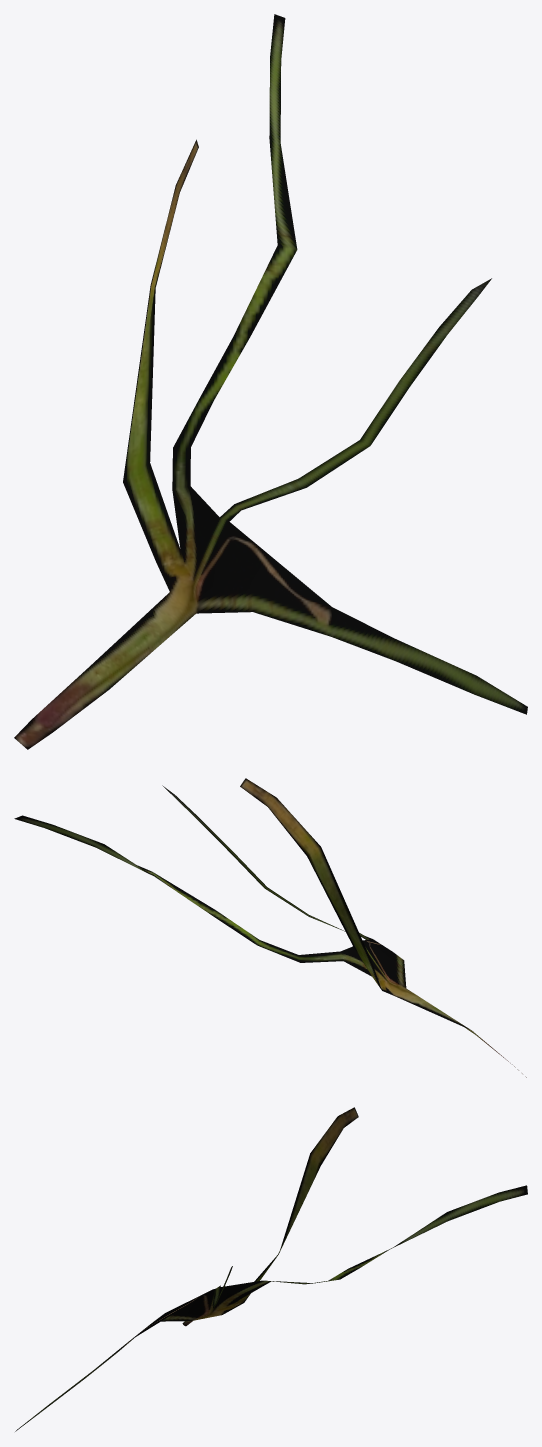
The model's file is SM_Grass_17.gltf.
3 views of the same model, one above another, from view 1: azimuth 30°, elevation 25°; view 2: azimuth 150°, elevation 25°; view 3: azimuth 270°, elevation 25° (orthographic). The views are drawn at different scales.
Parts seen in each view (by area): view 1: SM_Grass_17; view 2: SM_Grass_17; view 3: SM_Grass_17.
Boxes of the visible parts, bbox=[...] form: SM_Grass_17: bbox=[14, 14, 527, 749]; SM_Grass_17: bbox=[14, 778, 526, 1077]; SM_Grass_17: bbox=[15, 1107, 527, 1431].
Size of the model in its own units: 0.0552 by 0.0471 by 0.0689.
1 material, 1 textured.
